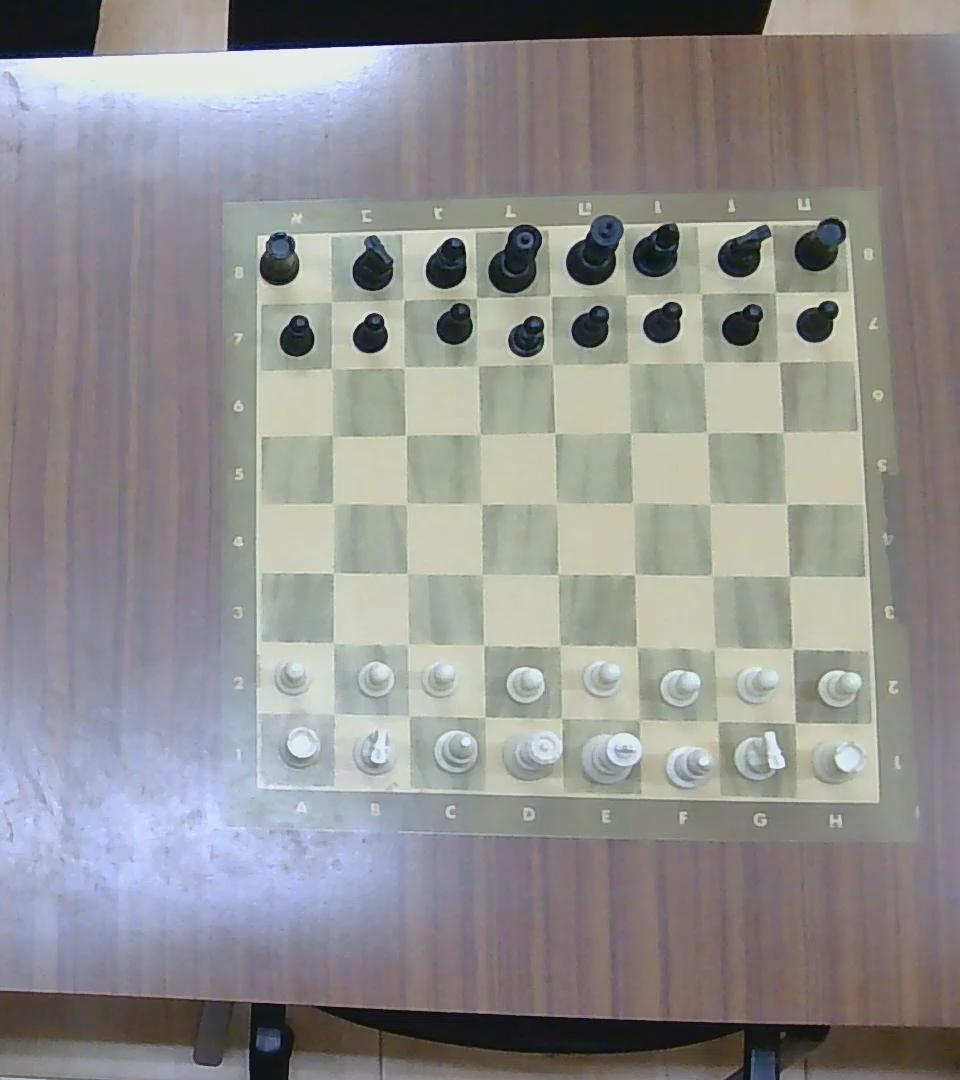xcorner: (618, 629, 653, 663), (620, 701, 653, 735), (776, 705, 810, 738), (697, 631, 731, 664), (541, 628, 575, 660), (699, 704, 732, 736), (543, 701, 576, 733), (618, 557, 650, 589), (318, 697, 349, 729), (392, 699, 423, 731), (468, 701, 500, 732), (542, 558, 573, 589), (772, 560, 803, 590), (776, 634, 807, 664), (317, 627, 347, 658), (460, 281, 490, 312), (468, 629, 498, 659), (392, 629, 422, 659), (697, 560, 727, 590), (466, 558, 495, 588), (392, 557, 422, 586), (618, 488, 648, 517), (615, 417, 645, 446), (466, 488, 495, 517), (317, 557, 346, 586), (542, 488, 571, 517), (694, 488, 723, 517), (317, 419, 345, 448), (316, 286, 345, 314), (388, 351, 416, 380), (391, 419, 419, 448), (388, 284, 416, 313), (536, 281, 565, 309), (771, 489, 801, 516), (317, 352, 345, 380), (611, 279, 639, 307), (318, 487, 346, 515), (537, 349, 566, 376), (767, 418, 796, 445), (392, 489, 420, 516), (464, 350, 491, 378), (465, 420, 493, 447), (540, 418, 568, 445), (614, 349, 642, 376), (693, 418, 721, 445), (688, 280, 714, 306), (690, 348, 716, 373), (762, 279, 788, 304), (766, 349, 791, 372)
